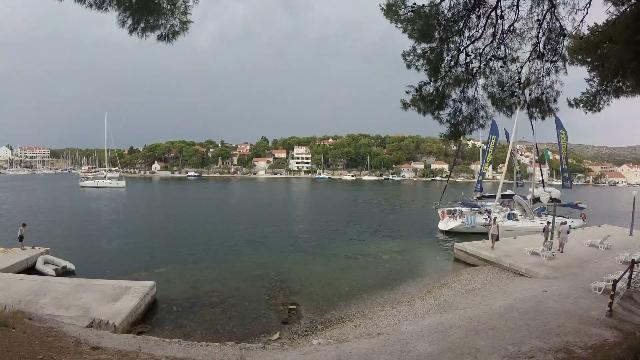Sailboat: (76, 170, 136, 192)
